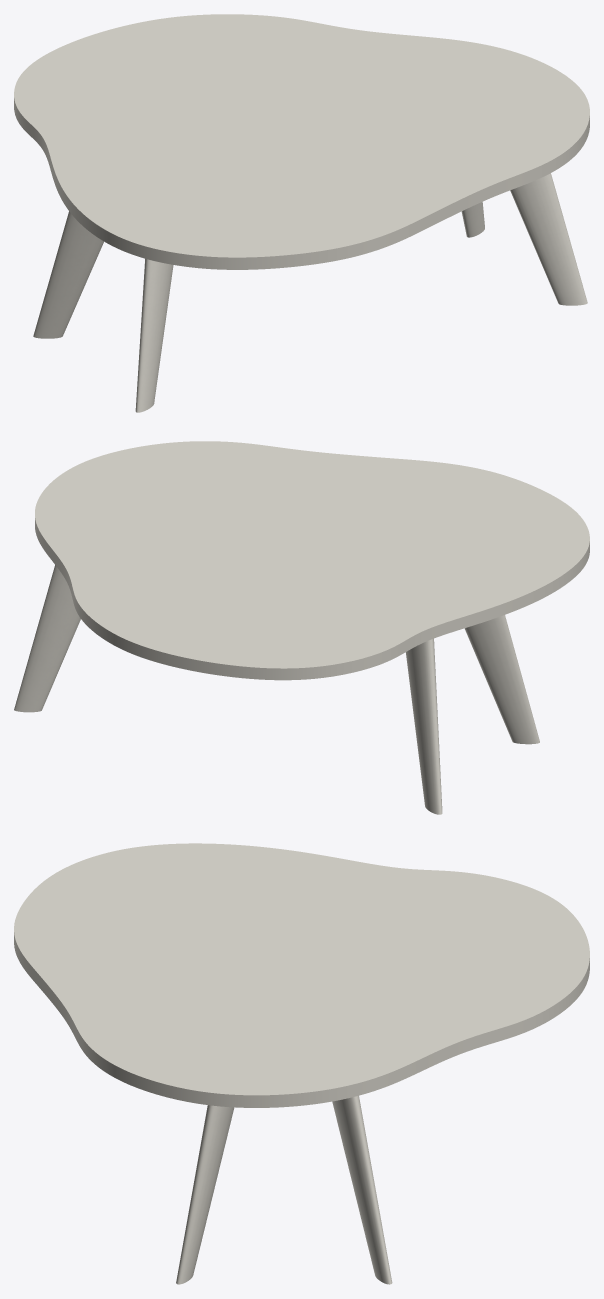
Rendered from pale_topone_standard_ferdinantwalnut.glb.
3 renders of one model, top to bottom at view 1: azimuth 30°, elevation 25°; view 2: azimuth 150°, elevation 25°; view 3: azimuth 270°, elevation 25°, orthographic. The views are drawn at different scales.
Visible parts, largest first — view 1: standard_topone, ferdinandwalnut; view 2: standard_topone, ferdinandwalnut; view 3: standard_topone, ferdinandwalnut.
Part boxes in pixels (x1,y1,x2,y2): standard_topone: [14, 14, 589, 269]; ferdinandwalnut: [33, 173, 587, 412]; standard_topone: [35, 441, 589, 680]; ferdinandwalnut: [14, 565, 539, 814]; standard_topone: [14, 843, 589, 1107]; ferdinandwalnut: [176, 1095, 392, 1284].
Size of the model in its own units: 6.83 by 2.51 by 6.6.
Materials: 1 (1 with a texture image).
